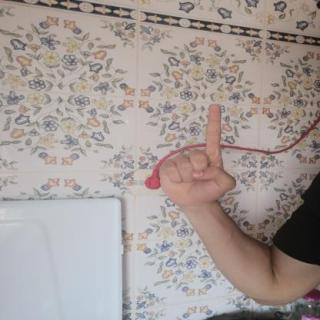BAA: (149, 96, 242, 217)
